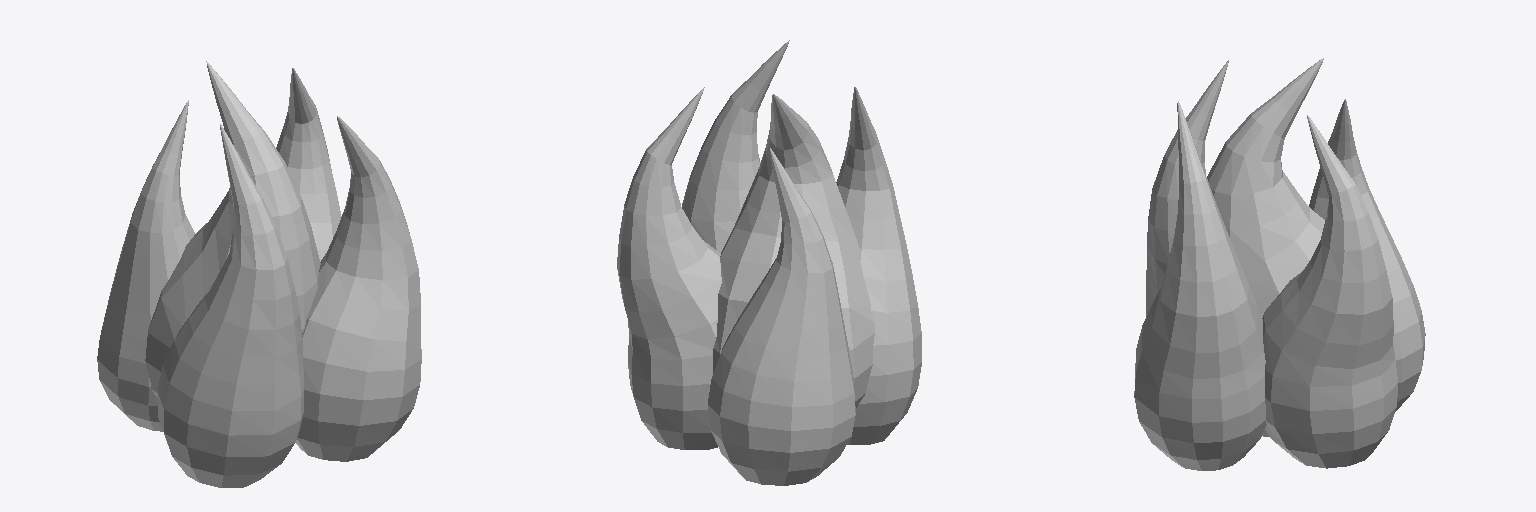
File: fire_000046.obj
3 views of the same model, side by side, from view 1: azimuth 30°, elevation 25°; view 2: azimuth 150°, elevation 25°; view 3: azimuth 270°, elevation 25° (orthographic).
Parts seen in each view (by area): view 1: flame_NurbsPath.015; view 2: flame_NurbsPath.015; view 3: flame_NurbsPath.015.
Part boxes in pixels (x1,y1,x2,y2): flame_NurbsPath.015: (97, 61, 421, 487); flame_NurbsPath.015: (617, 40, 921, 485); flame_NurbsPath.015: (1134, 58, 1425, 470).
Bounding box in the file's own units: 0.7597 × 1.13 × 0.805.